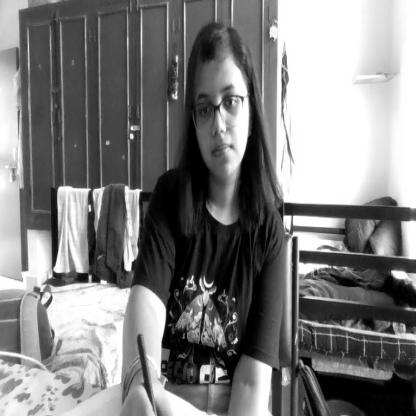Normal: (188, 29, 255, 188)
